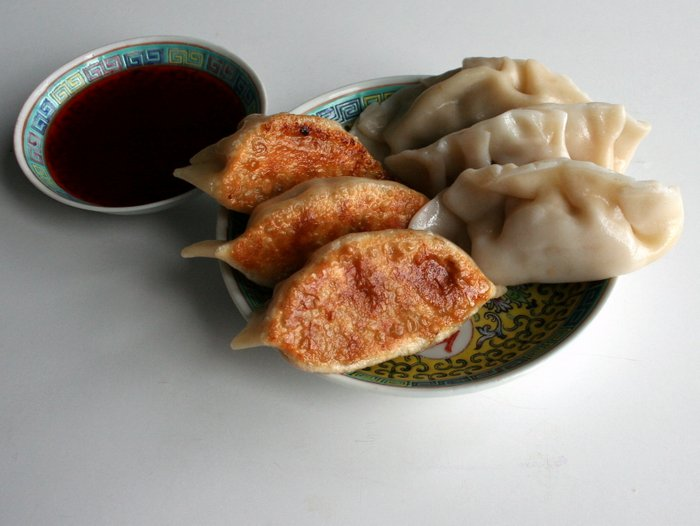fried_dumplings: (273, 255, 483, 355), (451, 174, 634, 258), (258, 191, 423, 274), (220, 119, 378, 200), (401, 64, 564, 128), (431, 121, 603, 165)
